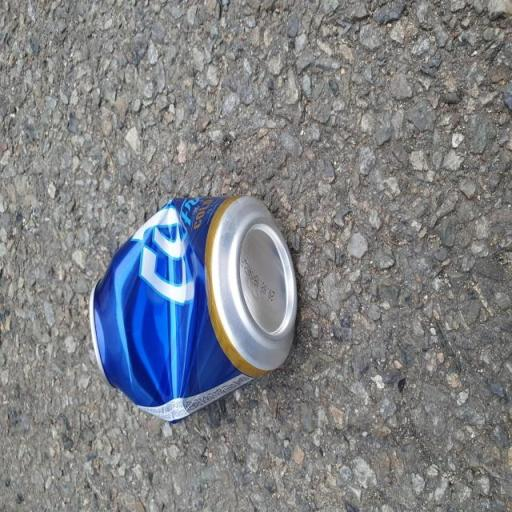metal: (57, 186, 361, 477)
